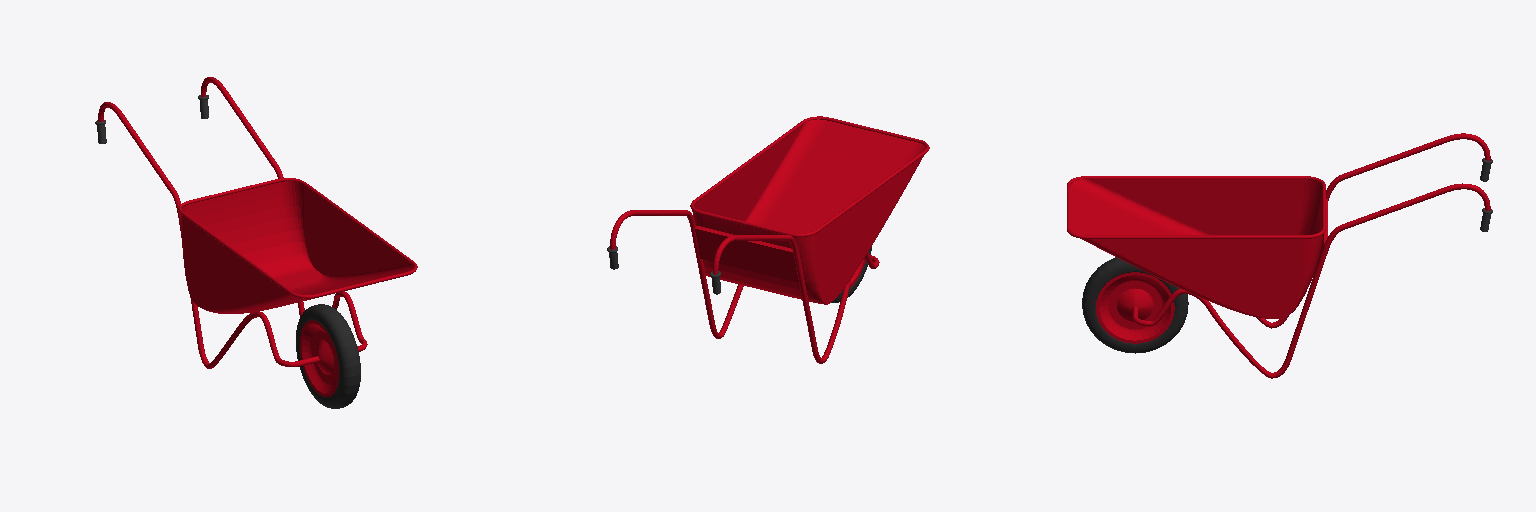
The model's file is wbarrow.obj.
3 renders of one model, left to right at view 1: azimuth 30°, elevation 25°; view 2: azimuth 150°, elevation 25°; view 3: azimuth 270°, elevation 25°, orthographic.
Visible parts, largest first — view 1: ポリゴンメッシュ; view 2: ポリゴンメッシュ; view 3: ポリゴンメッシュ.
Part boxes in pixels (x1,y1,x2,y2): ポリゴンメッシュ: (95, 77, 417, 408); ポリゴンメッシュ: (607, 116, 929, 363); ポリゴンメッシュ: (1067, 133, 1492, 378).
Bounding box in the file's own units: 0.6032 × 0.897 × 1.78.